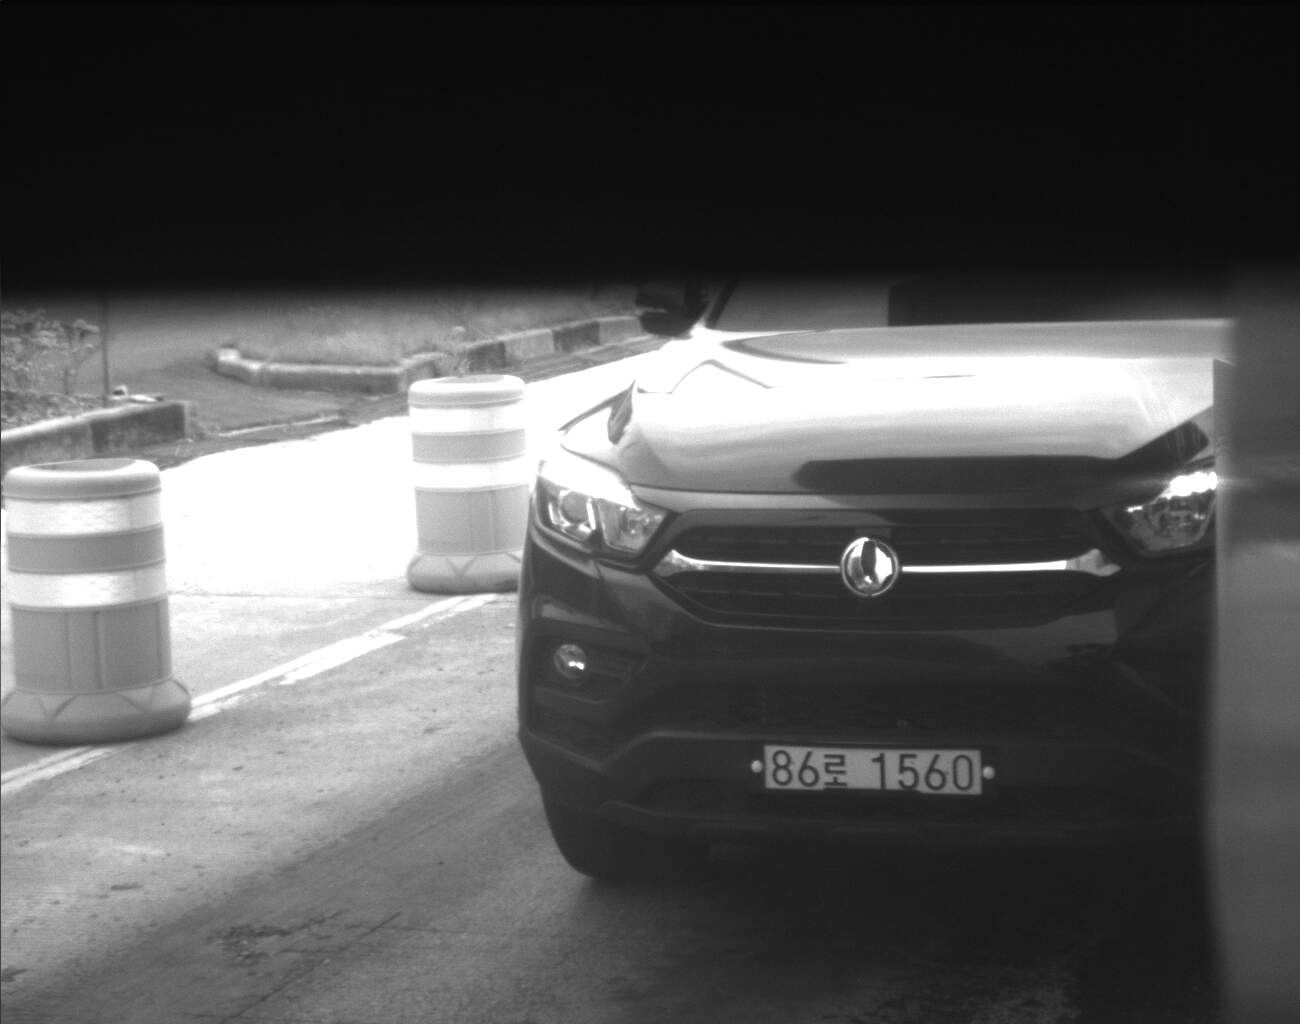car: (515, 292, 1208, 884)
plate: (744, 738, 997, 802)
